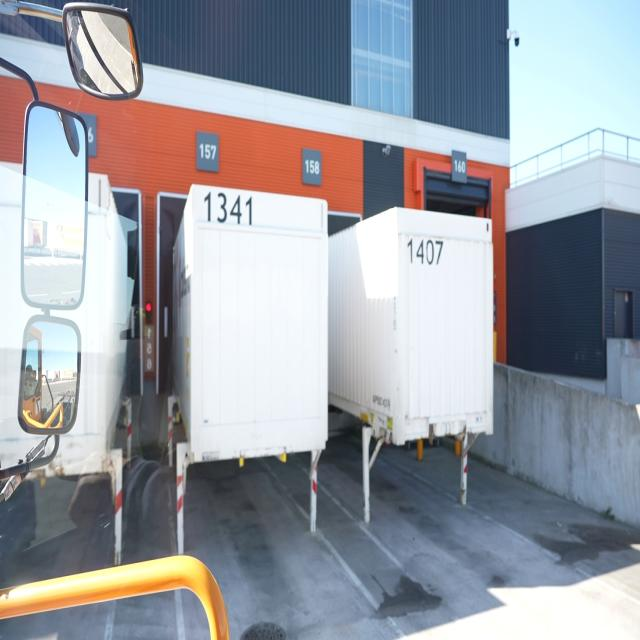Code: (202, 185, 261, 232), (402, 230, 446, 270)
